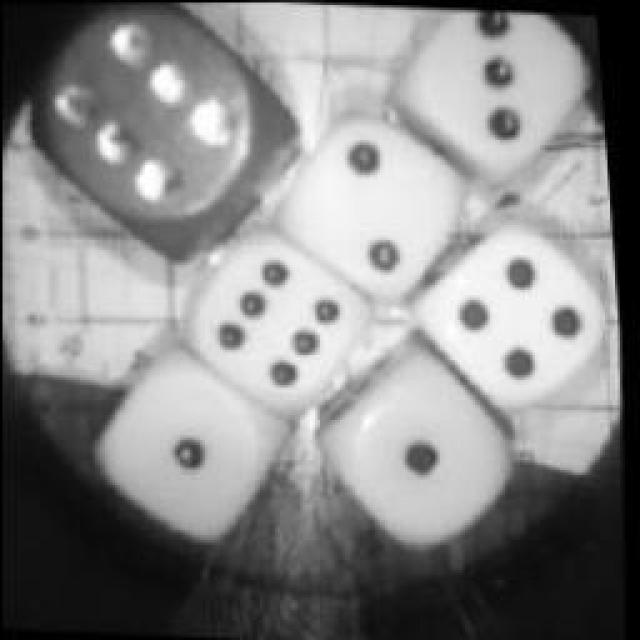dice_1: (305, 329, 535, 559), (79, 330, 314, 555)
dice_2: (269, 91, 486, 306)
dice_3: (384, 5, 614, 185)
dice_4: (402, 208, 628, 422)
dice_6: (19, 2, 324, 272), (168, 219, 394, 419)
